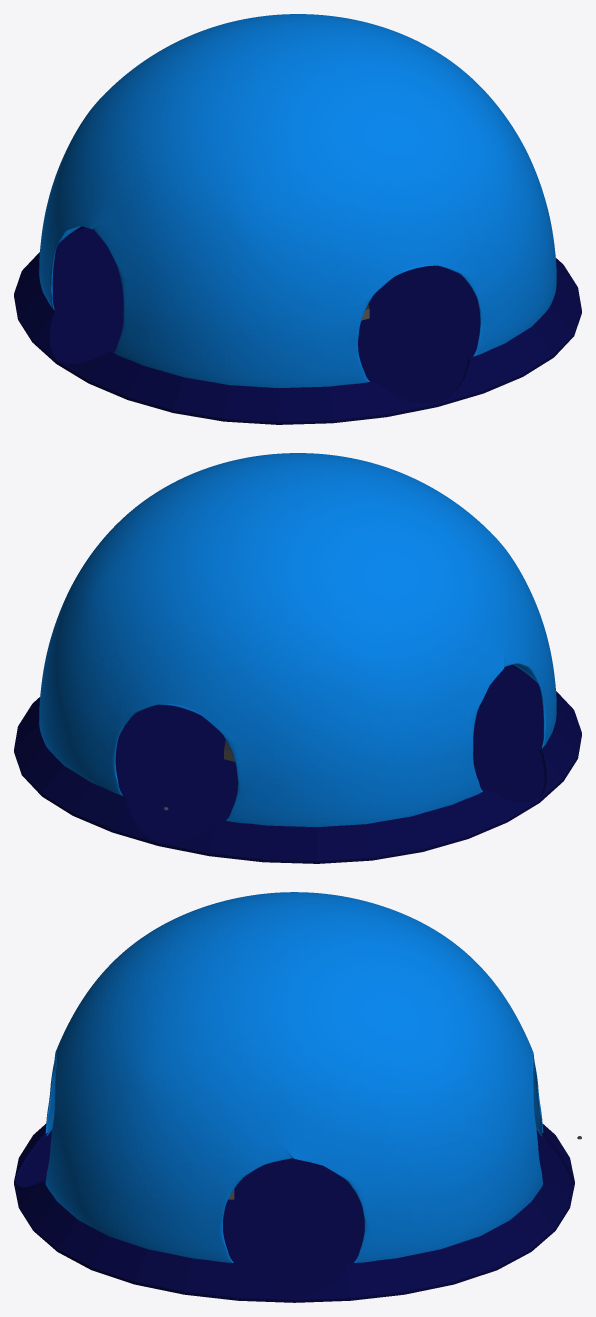
The model's file is DOME_CRAFT.fbx.
The picture shows the model from 3 angles, top to bottom: view 1: azimuth 30°, elevation 25°; view 2: azimuth 150°, elevation 25°; view 3: azimuth 270°, elevation 25°; orthographic projection.
Parts seen in each view (by area): view 1: Cube.002; view 2: Cube.002; view 3: Cube.002.
Part boxes in pixels (<box>): Cube.002: <box>14,14,581,424</box>; Cube.002: <box>14,453,581,863</box>; Cube.002: <box>14,892,574,1302</box>.
Size of the model in its own units: 1409 by 733 by 1426.
